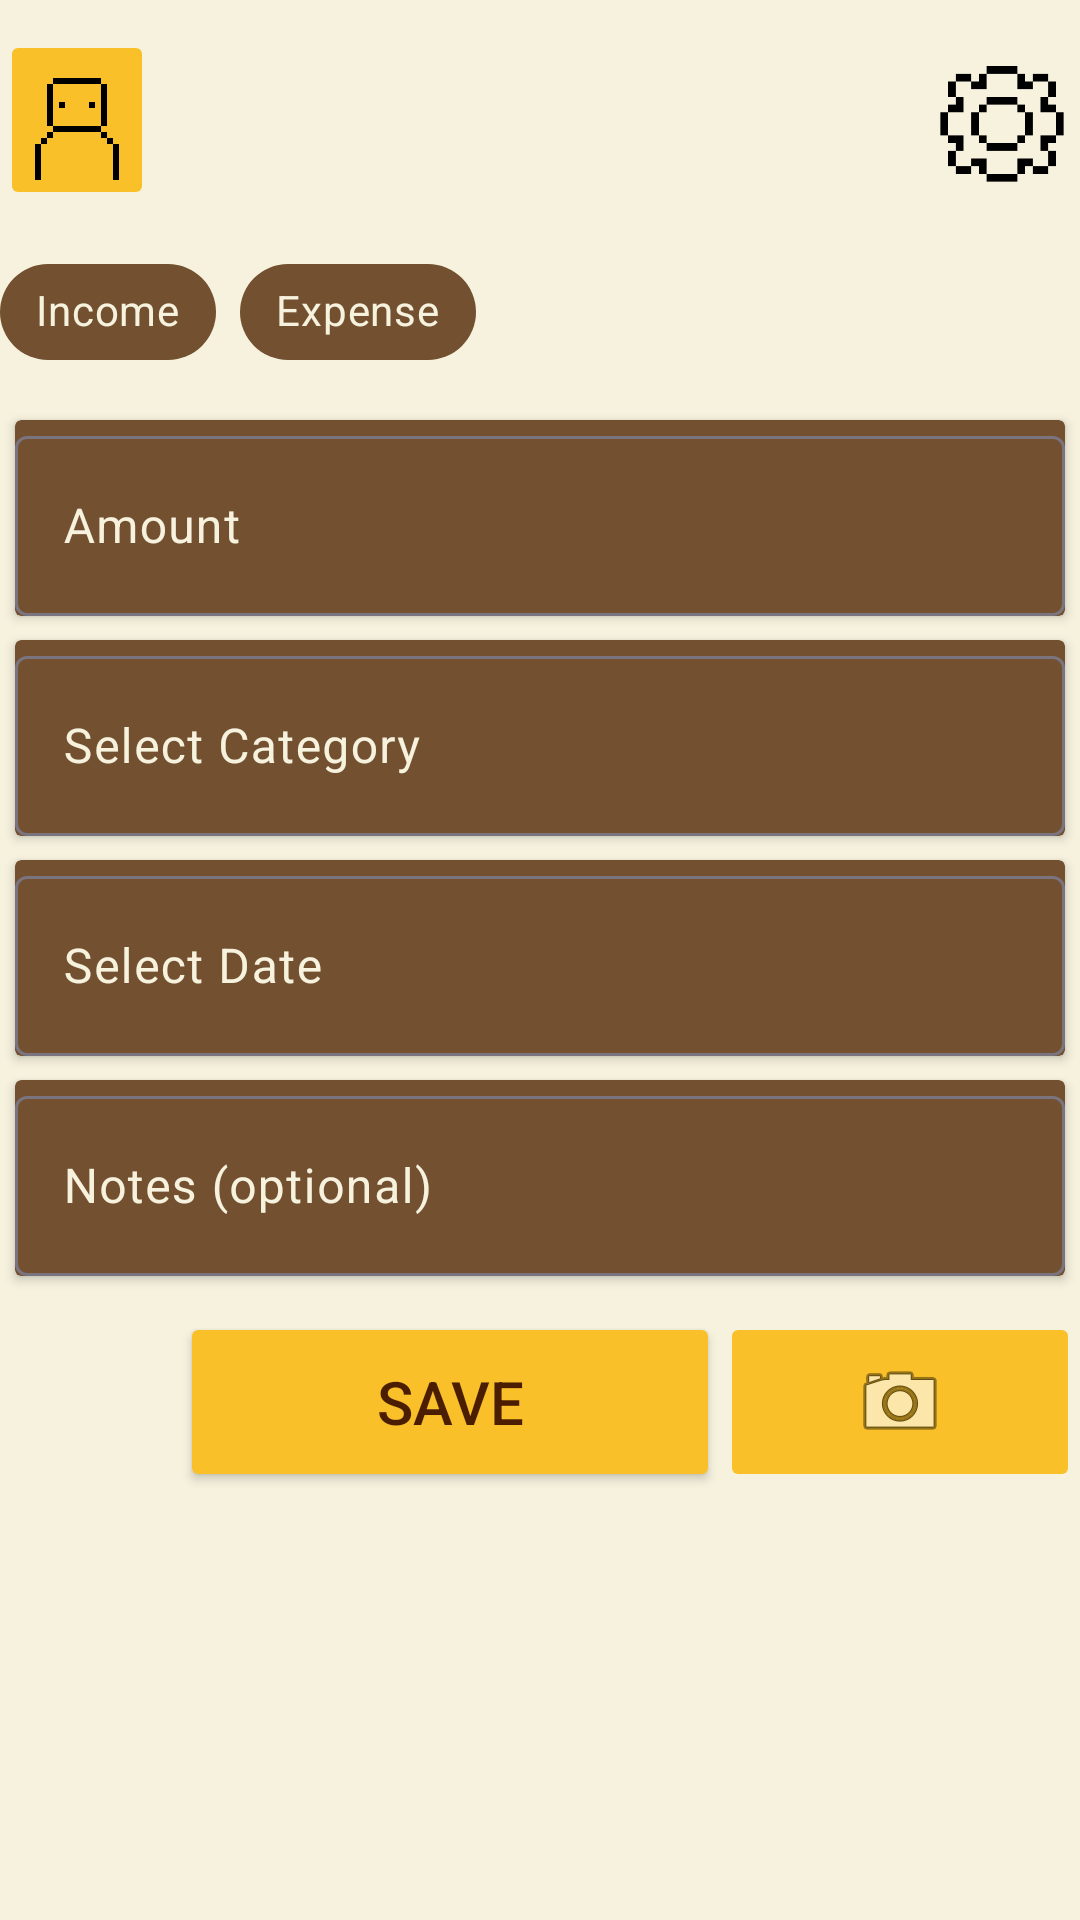

Screen size 1080w x 1920h. Icon name, then its box in pixels as box=[x1, y1, x2, y2]:
camera: box=[732, 1330, 1068, 1474]
cogicon: box=[940, 66, 1064, 182]
profileicon: box=[12, 48, 142, 192]
